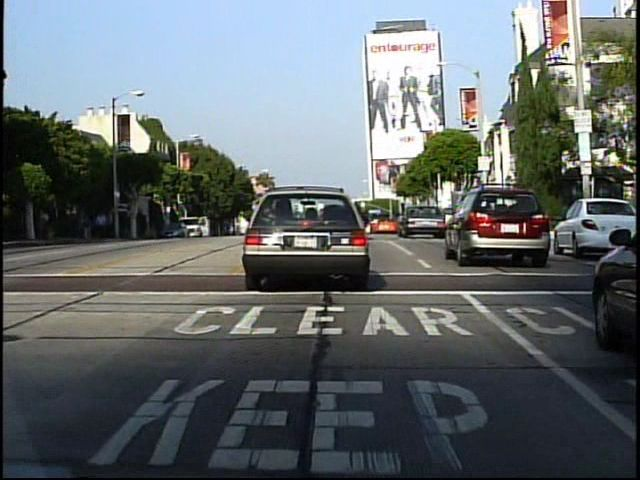car: (236, 183, 378, 286), (441, 181, 549, 263), (556, 198, 639, 255), (397, 203, 449, 241)
